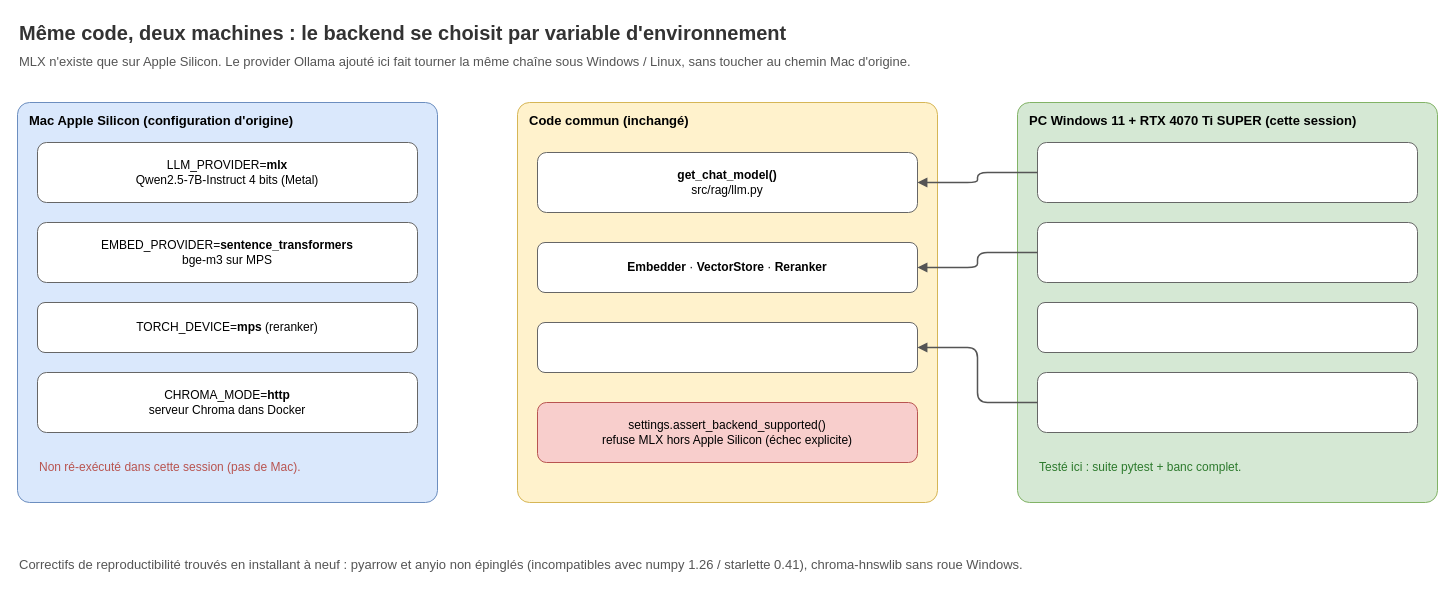
Image size: 1455x603. Some labels were removed from this diagram. The centre of each missing label's shape, as x and y in pixels:
CHROMA_MODE= persistent base embarquée sur disque, sans Docker: the point at 1227,402
EMBED_PROVIDER= ollama bge-m3 via /api/embed: the point at 1227,252
LLM_PROVIDER= ollama qwen3.5:9b (GPU, think=false): the point at 1227,172
RAGChain · HybridRetriever · API · UI: the point at 727,347
TORCH_DEVICE= auto → cpu ici (torch CPU): the point at 1227,327
